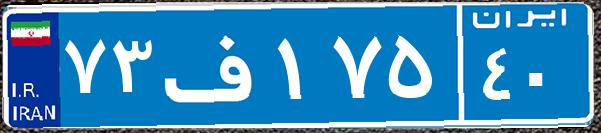0: (525, 38, 570, 115)
1: (273, 28, 330, 110)
3: (110, 28, 158, 105)
4: (475, 38, 525, 113)
5: (385, 28, 445, 110)
7: (330, 28, 385, 110), (57, 26, 110, 107)
ف: (158, 15, 273, 115)
